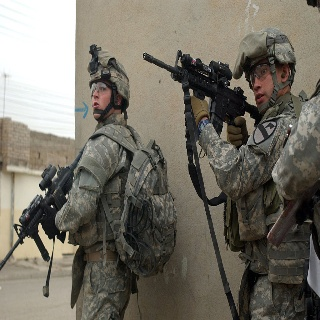rifle: (140, 48, 263, 140), (1, 140, 68, 272)
